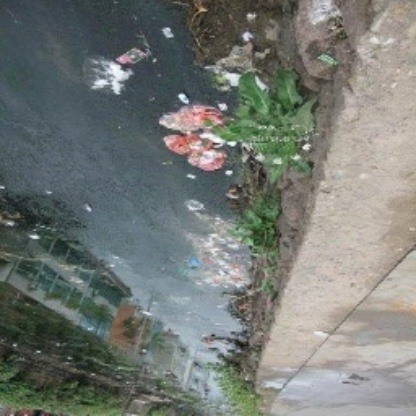plastic-bag: (160, 100, 222, 134)
